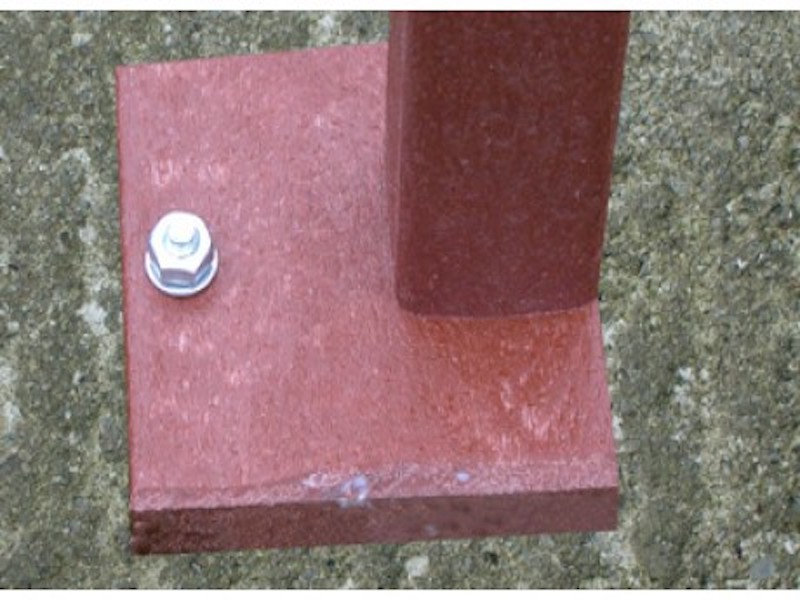bolt: (144, 209, 221, 302)
